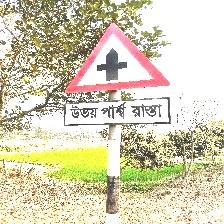Crossroad: (64, 22, 174, 128)
